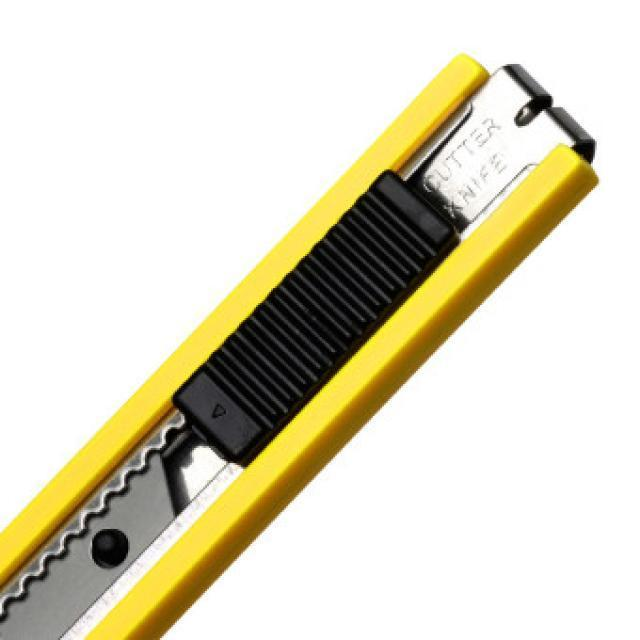cutter: (0, 49, 608, 640)
